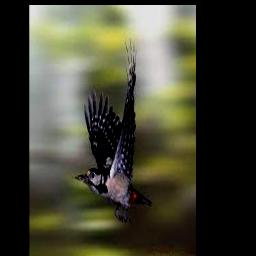Woodpecker: (75, 38, 152, 221)
